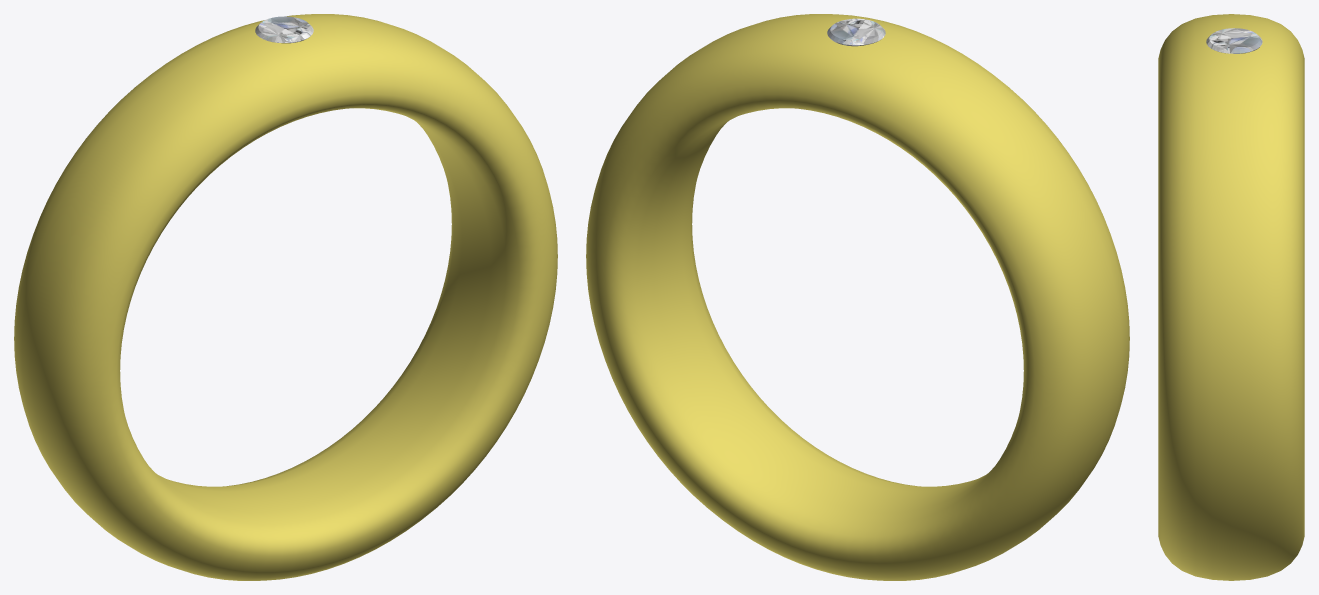
The model's file is tradringcompedra.glb.
3 views of the same model, side by side, from view 1: azimuth 30°, elevation 25°; view 2: azimuth 150°, elevation 25°; view 3: azimuth 270°, elevation 25° (orthographic). The views are drawn at different scales.
Parts seen in each view (by area): view 1: Circle, Cone; view 2: Circle, Cone; view 3: Circle, Cone.
Part boxes in pixels (box(x1,y1,x2,y2)): Circle: box(14, 14, 557, 580); Cone: box(255, 16, 313, 43); Circle: box(586, 14, 1129, 580); Cone: box(827, 18, 885, 46); Circle: box(1158, 14, 1304, 580); Cone: box(1206, 28, 1262, 53).
Bounding box in the file's own units: 1.97 × 1.97 × 0.5075.
Materials: 2 (1 with a texture image).
